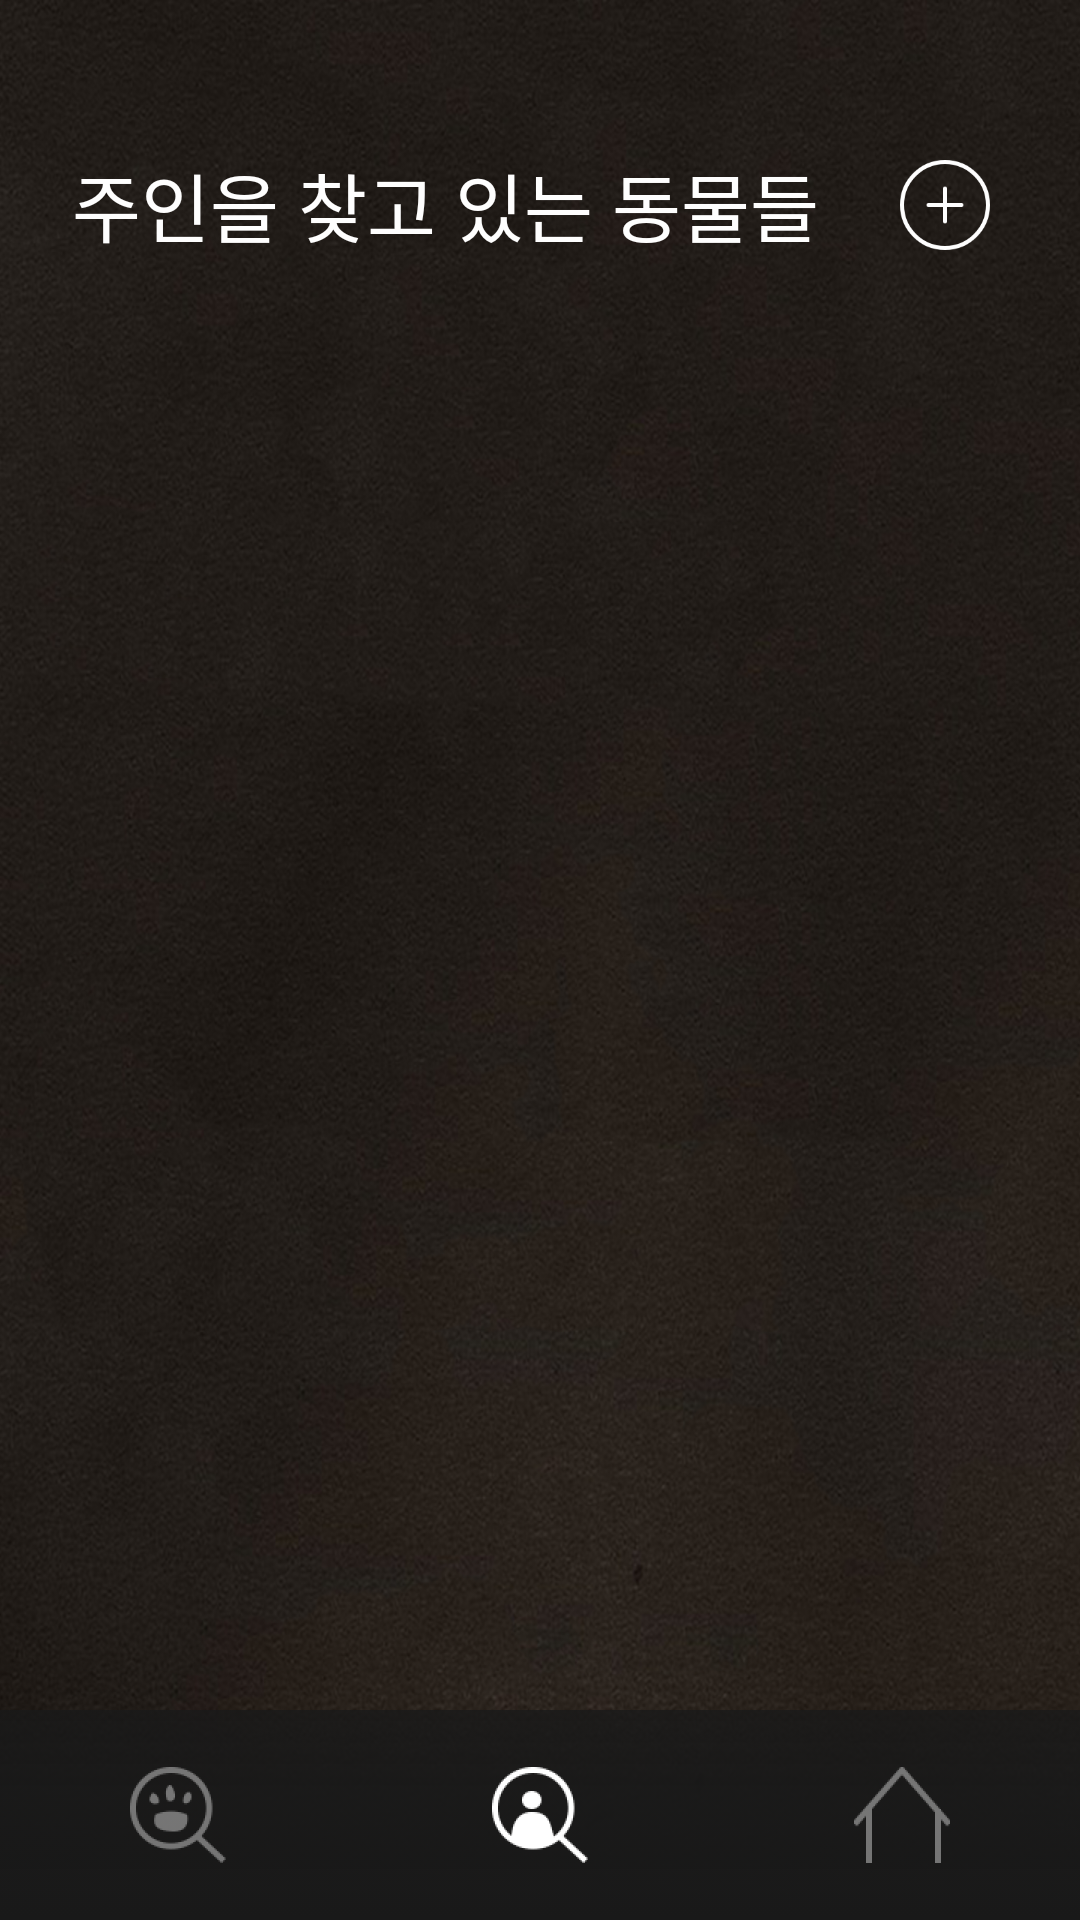

Icon bounding boxes for this 1080 x 1920 phone screenshot, format (x1, y1, x2, y2):
plus: (900, 160, 990, 250)
